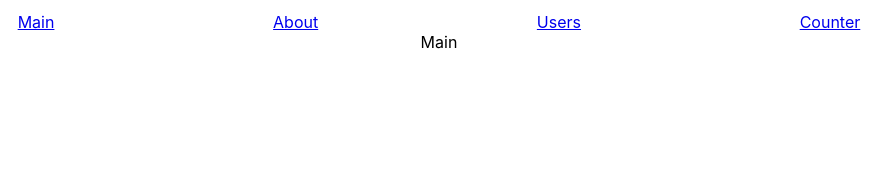
test app › renders learn react link
Expected: the link with test id "main-link" is shown, x1=18 y1=12 x2=54 y2=32
Click the link with test id "about-link" at point(296, 22), box x1=273 y1=12 x2=318 y2=32
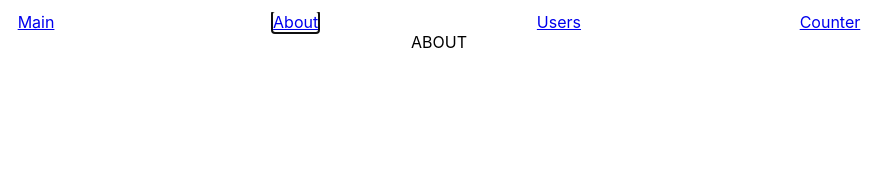
Expected: the text "ABOUT" is shown, x1=411 y1=32 x2=467 y2=52
Click the link with test id "main-link" at point(36, 22), box x1=18 y1=12 x2=54 y2=32
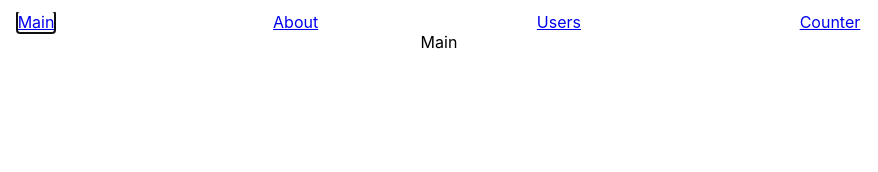
Expected: the text "Main" is shown, x1=421 y1=32 x2=457 y2=52
